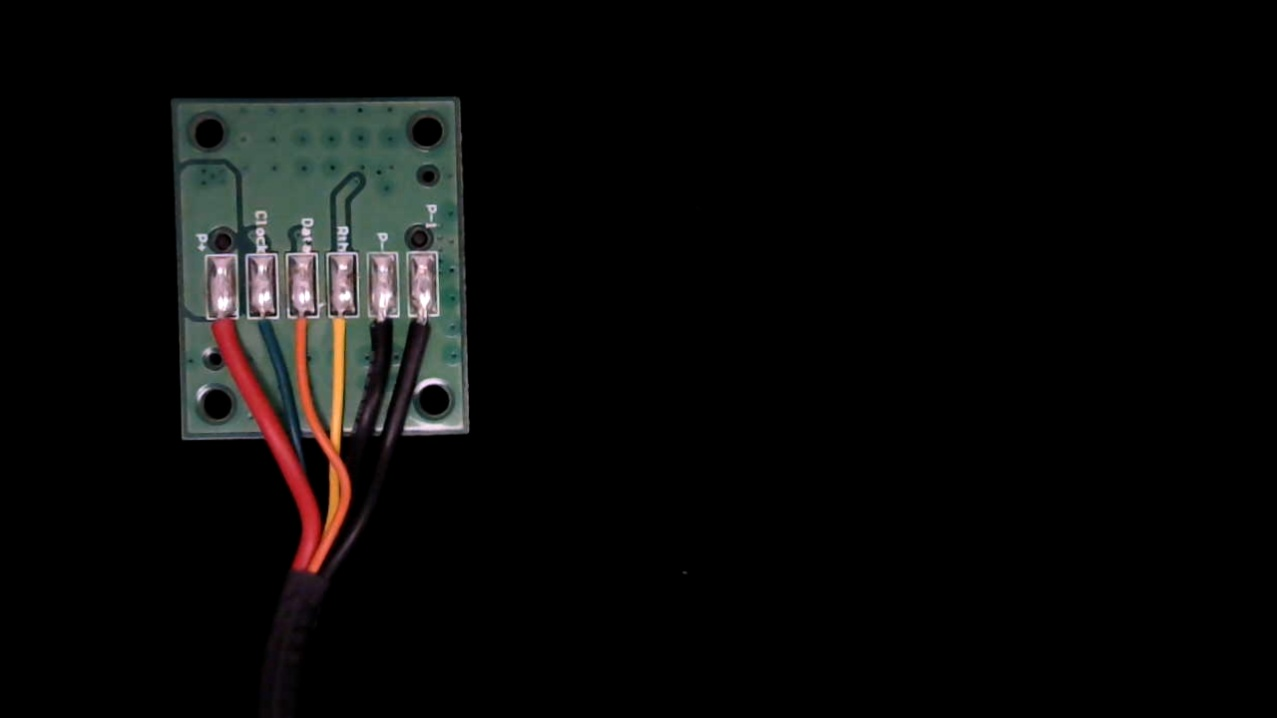Black: (369, 302, 398, 361)
Black1: (406, 303, 439, 360)
Green: (250, 303, 281, 357)
Orange: (289, 302, 317, 361)
Red: (204, 307, 240, 365)
Yellow: (328, 301, 356, 362)
